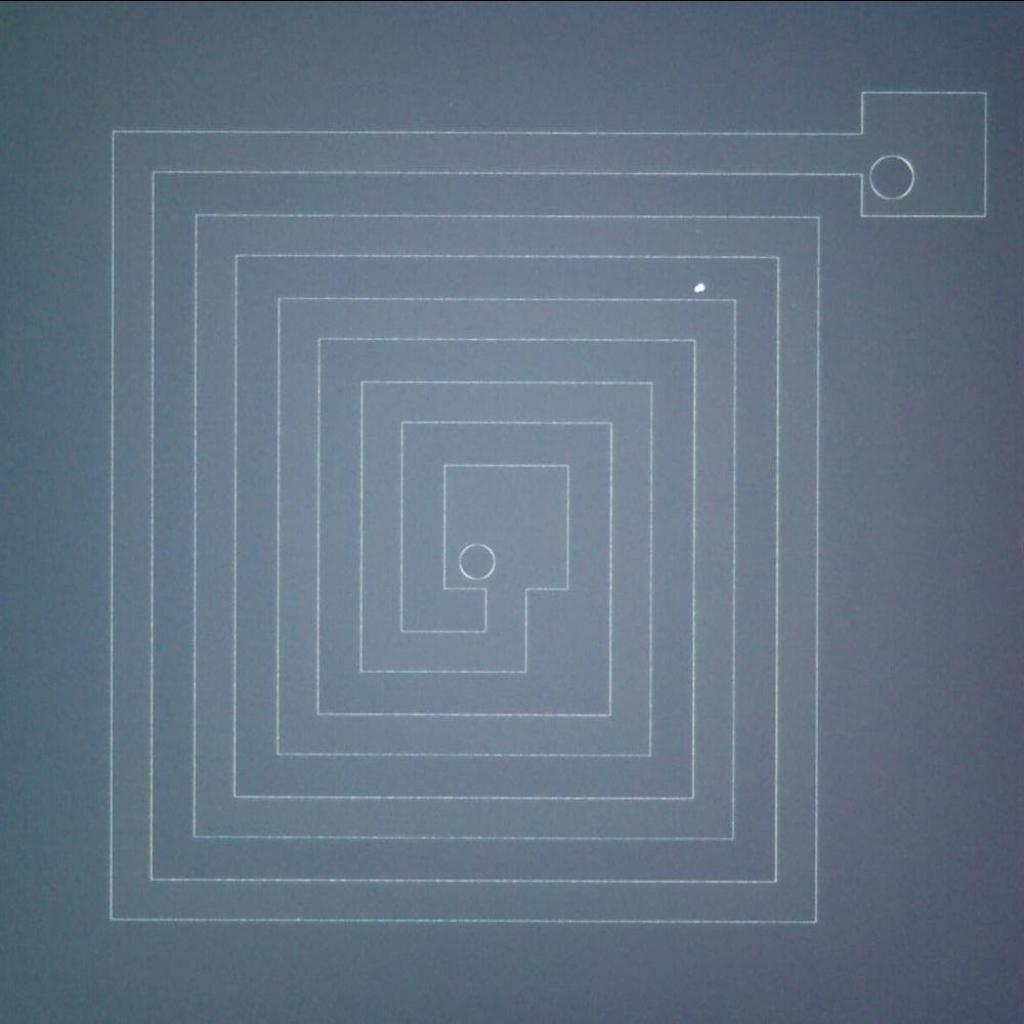circle: (866, 150, 919, 205), (454, 542, 497, 580)
spot: (687, 275, 714, 303)
